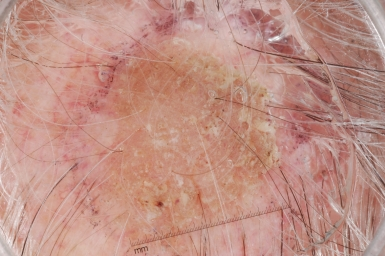seborrheic keratosis: (86, 34, 276, 210)
